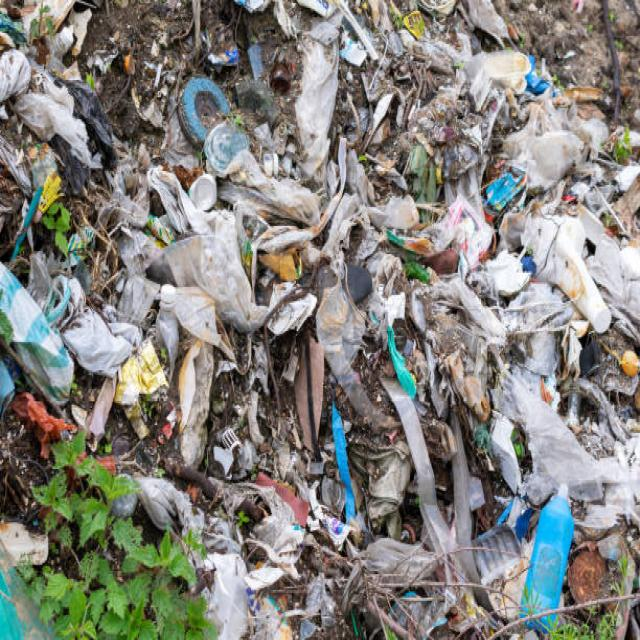plastic: (24, 57, 616, 494)
